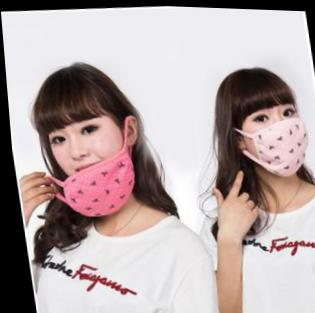OK: (236, 97, 315, 173)
WRONG: (37, 111, 125, 197)
